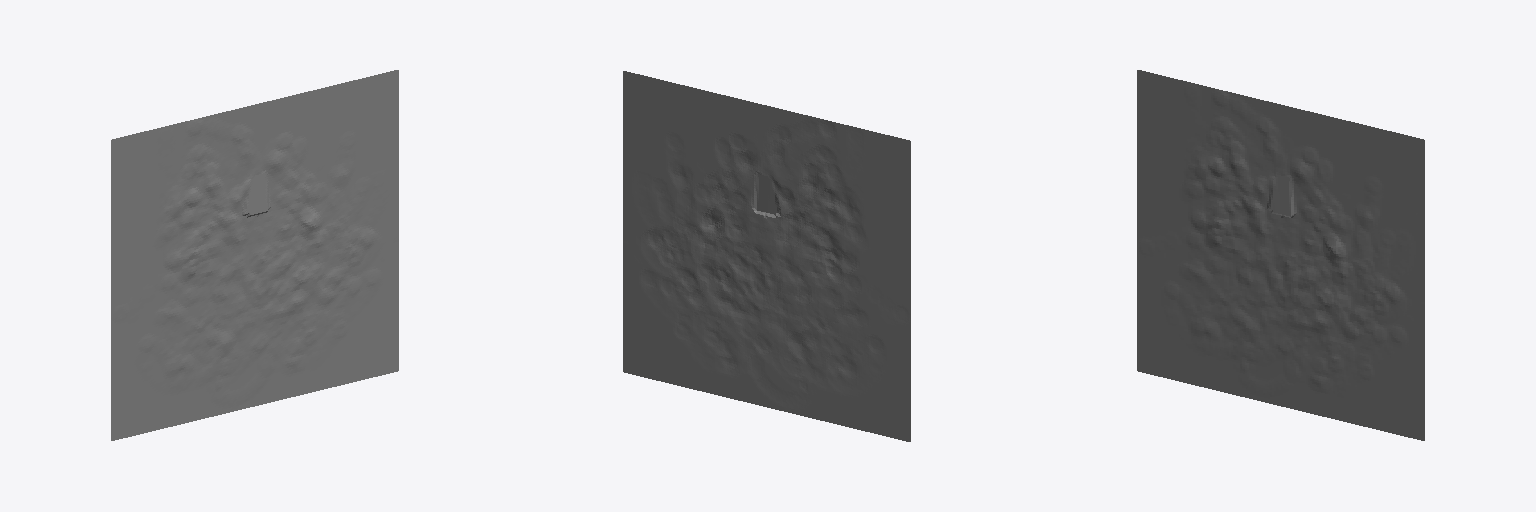
File: terrain_bumpy.obj
3 views of the same model, side by side, from view 1: azimuth 30°, elevation 25°; view 2: azimuth 150°, elevation 25°; view 3: azimuth 330°, elevation 25° (orthographic).
Parts seen in each view (by area): view 1: Plane001; view 2: Plane001; view 3: Plane001.
Part boxes in pixels (x1,y1,x2,y2): Plane001: (111,70,398,440); Plane001: (623,71,910,441); Plane001: (1137,70,1424,440).
Bounding box in the file's own units: 787 × 787 × 7.58.